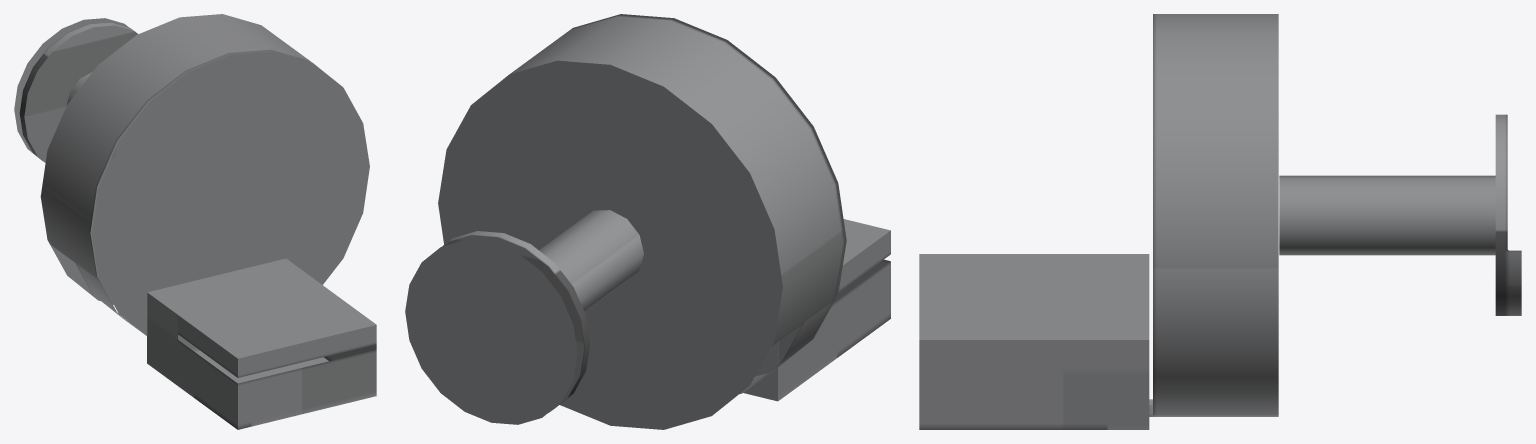
The picture shows the model from 3 angles, left to right: view 1: azimuth 30°, elevation 25°; view 2: azimuth 150°, elevation 25°; view 3: azimuth 270°, elevation 25°; orthographic projection. The views are drawn at different scales.
Bounding box in the file's own units: 0.6 × 0.6 × 0.89.
